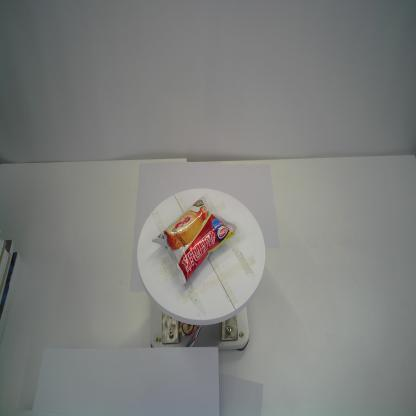Dessert: (150, 191, 237, 286)
